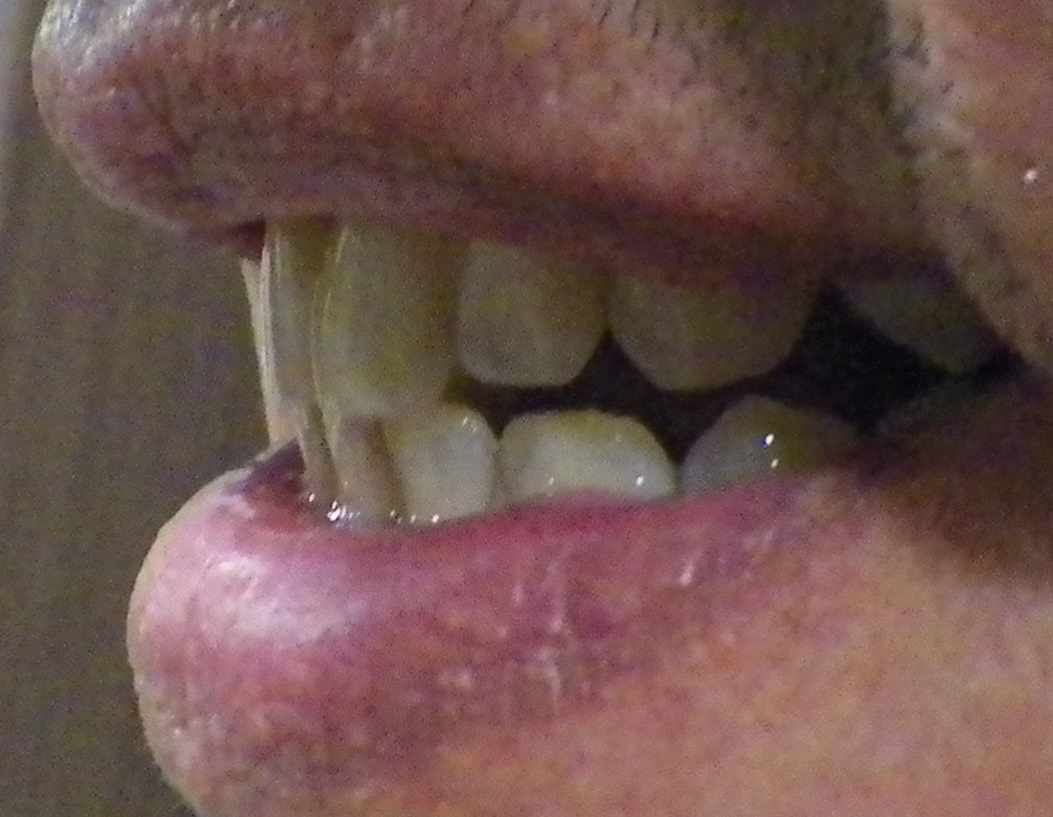boca: (244, 220, 948, 507)
